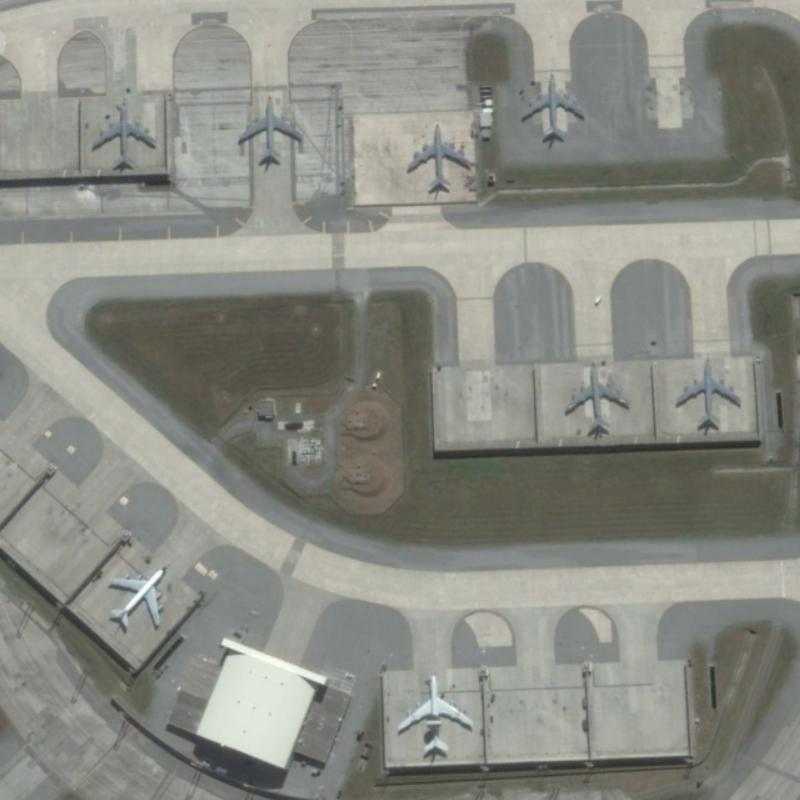A11: (98, 558, 173, 634)
A14: (401, 116, 479, 198), (560, 354, 636, 438), (86, 91, 160, 177), (512, 68, 590, 146), (668, 352, 743, 433), (231, 88, 306, 169)
A7: (389, 666, 478, 759)
